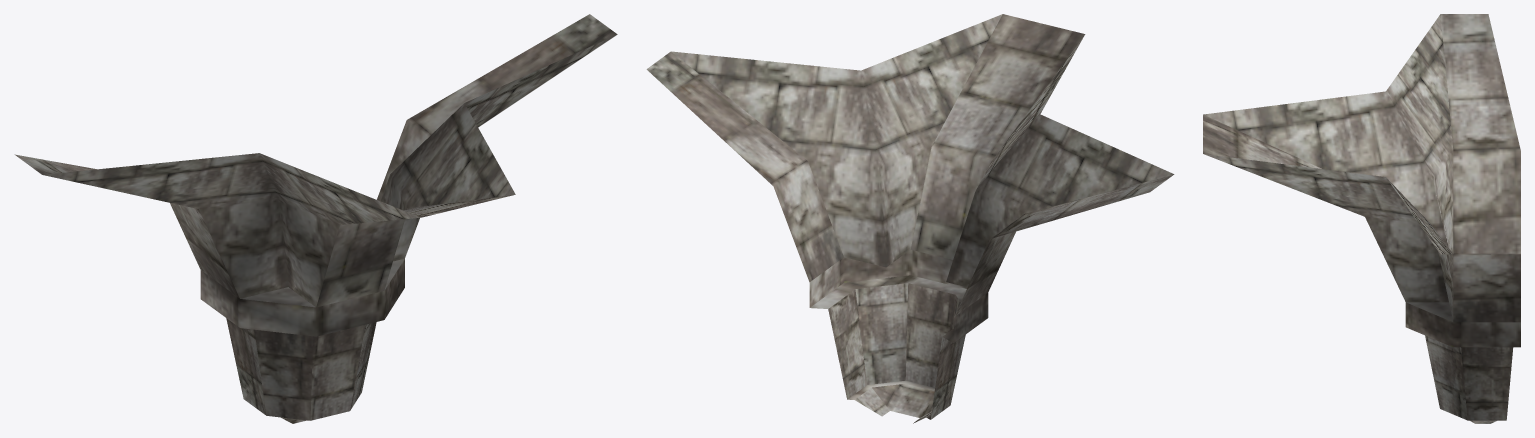
The model's file is ornate_pillar_side_sm.glb.
3 views of the same model, side by side, from view 1: azimuth 30°, elevation 25°; view 2: azimuth 150°, elevation 25°; view 3: azimuth 270°, elevation 25° (orthographic). The views are drawn at different scales.
Visible parts, largest first — view 1: ornate_pillar_side_sm; view 2: ornate_pillar_side_sm; view 3: ornate_pillar_side_sm.
Part boxes in pixels (x1=…): ornate_pillar_side_sm: x1=14, y1=14, x2=617, y2=423; ornate_pillar_side_sm: x1=646, y1=14, x2=1174, y2=423; ornate_pillar_side_sm: x1=1203, y1=14, x2=1520, y2=423.
Size of the model in its own units: 7.4 by 4.05 by 4.13.
Materials: 1 (1 with a texture image).
